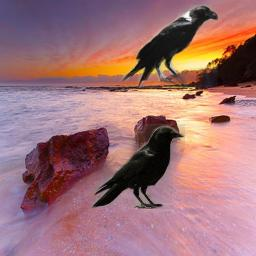Crow: (118, 2, 218, 88), (89, 124, 185, 212)
